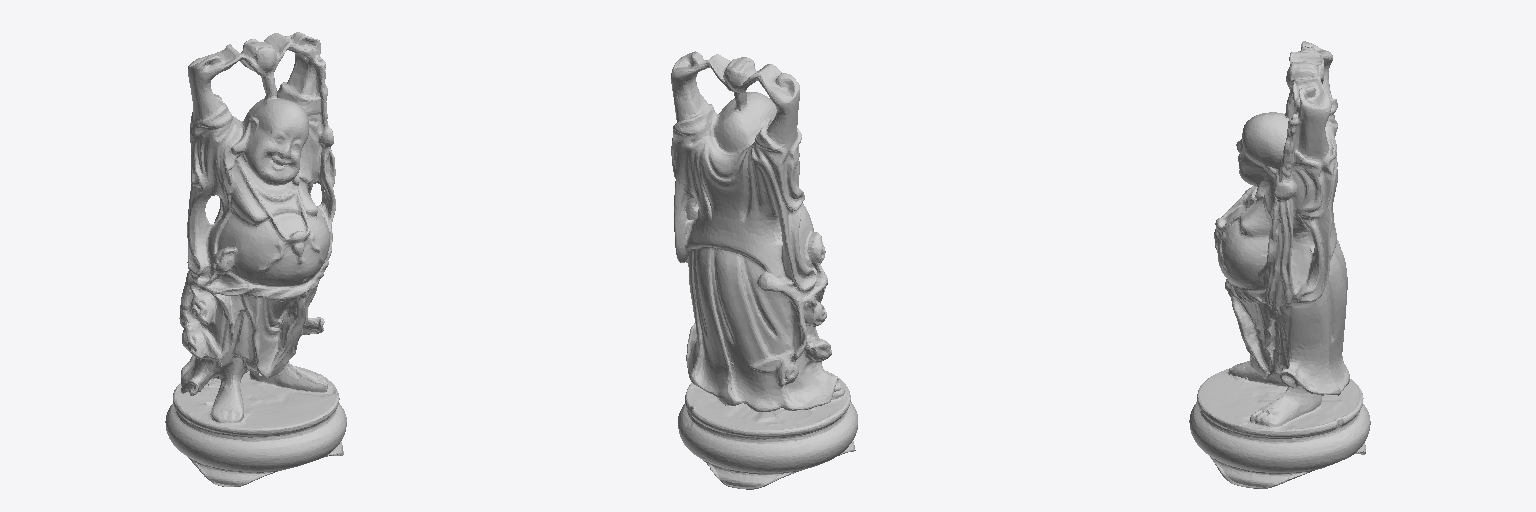
Rendered from buddha_50k.obj.
3 renders of one model, left to right at view 1: azimuth 30°, elevation 25°; view 2: azimuth 150°, elevation 25°; view 3: azimuth 270°, elevation 25°, orthographic.
Bounding box in the file's own units: 0.0813 × 0.198 × 0.0814.